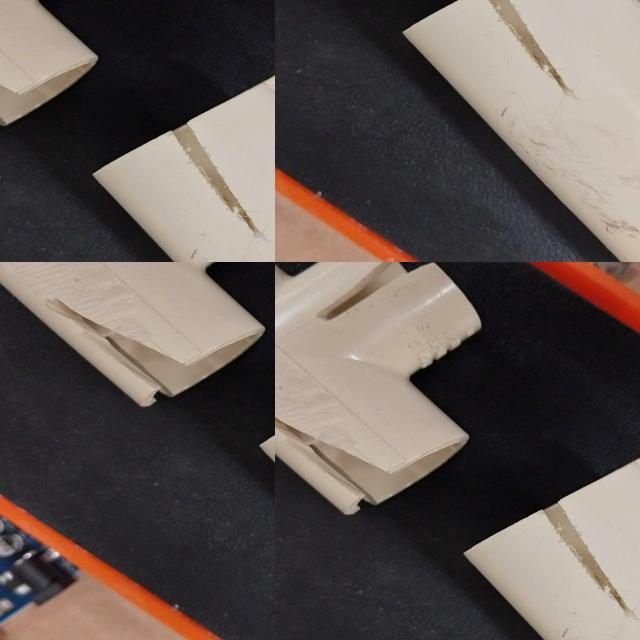Defective: (275, 403, 392, 518), (547, 508, 629, 624)
T Joint: (275, 262, 482, 516), (464, 444, 640, 640)
